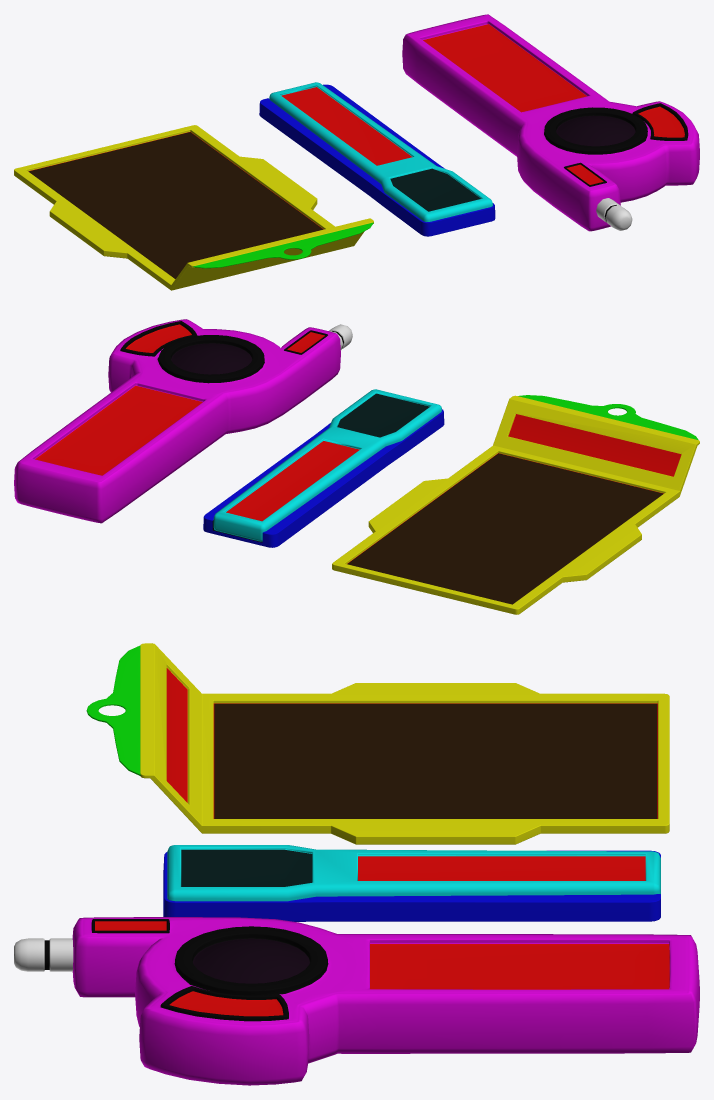
Rendered from Hacking_Devices.fbx.
The picture shows the model from 3 angles, top to bottom: view 1: azimuth 30°, elevation 25°; view 2: azimuth 150°, elevation 25°; view 3: azimuth 270°, elevation 25°; orthographic projection. The views are drawn at different scales.
Visible parts, largest first — view 1: Hacking_Device_2, Hacking_Device_3, Hacking_Device_1; view 2: Hacking_Device_2, Hacking_Device_3, Hacking_Device_1; view 3: Hacking_Device_2, Hacking_Device_3, Hacking_Device_1.
Part boxes in pixels (left/top/right/bottom): Hacking_Device_2: left=14, top=125, right=373, bottom=290; Hacking_Device_3: left=402, top=14, right=699, bottom=231; Hacking_Device_1: left=259, top=82, right=495, bottom=236; Hacking_Device_2: left=332, top=395, right=699, bottom=614; Hacking_Device_3: left=14, top=319, right=352, bottom=523; Hacking_Device_1: left=203, top=389, right=444, bottom=547; Hacking_Device_2: left=86, top=643, right=669, bottom=844; Hacking_Device_3: left=14, top=917, right=699, bottom=1085; Hacking_Device_1: left=163, top=845, right=660, bottom=921.
Bounding box in the file's own units: 31.24 × 2.72 × 23.
